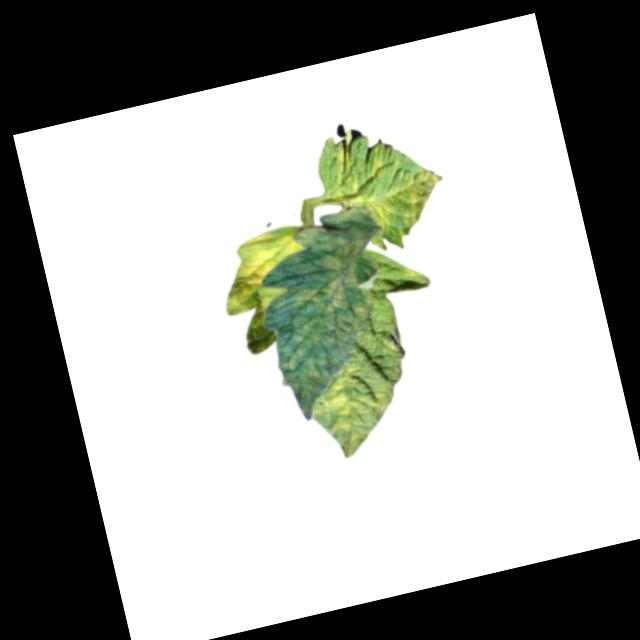Leaf_Mold: (253, 218, 389, 382), (323, 111, 453, 246), (302, 357, 404, 463), (210, 223, 318, 318)
